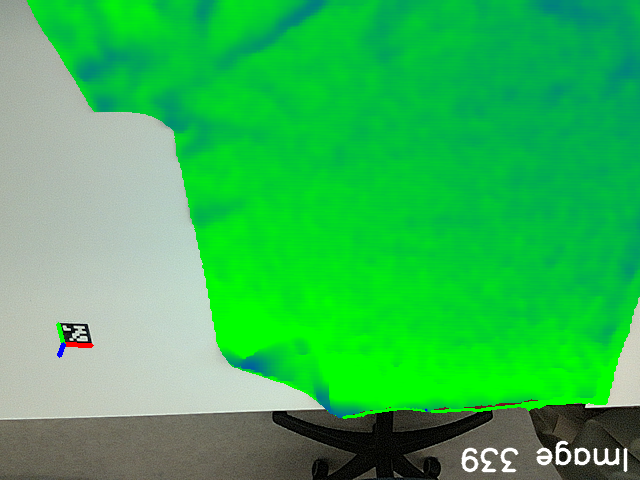V: (278, 327, 320, 361)
